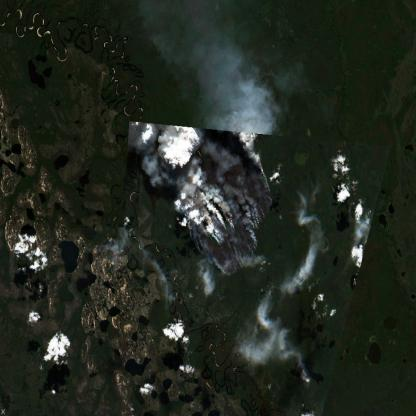fire: (161, 128, 275, 283)
